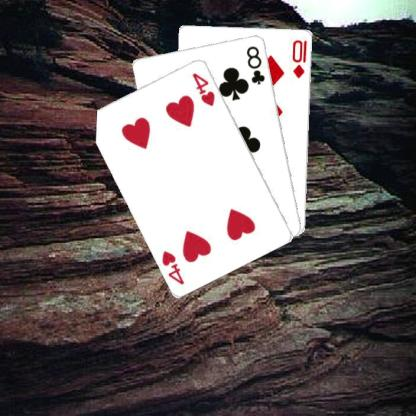10D: (292, 36, 310, 78)
4H: (161, 248, 187, 286), (192, 70, 218, 107)
8C: (246, 43, 268, 86)
